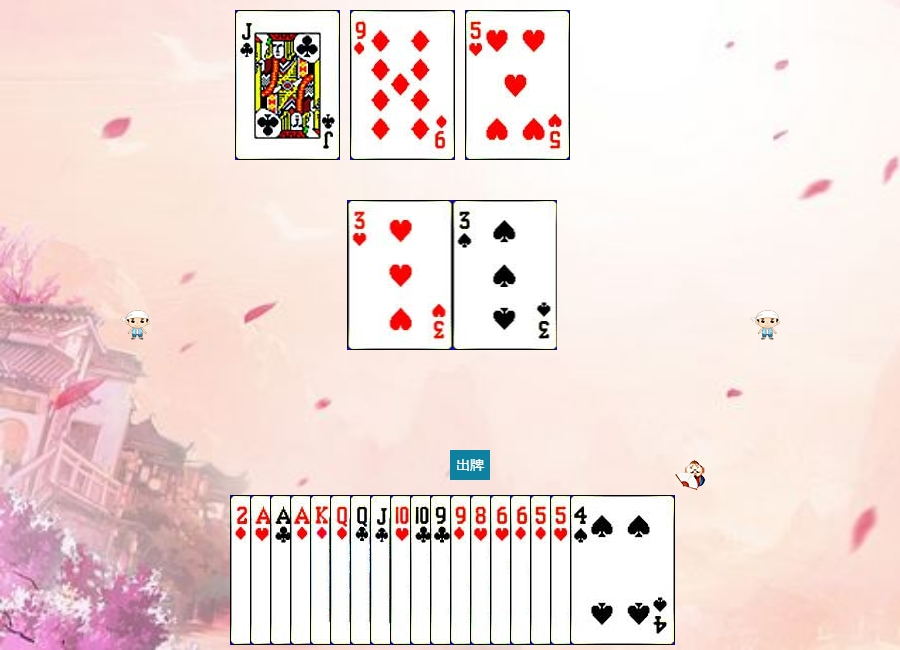10~2: (410, 495, 515, 645)
10~3: (390, 495, 495, 645)
11~2: (235, 10, 340, 160), (370, 495, 475, 645)
12~1: (330, 495, 435, 645)
12~2: (350, 495, 455, 645)
13~1: (310, 495, 415, 645)
14~1: (290, 495, 395, 645)
14~2: (270, 495, 375, 645)
14~3: (250, 495, 355, 645)
15~1: (230, 495, 335, 645)
3~3: (348, 200, 453, 350)
3~4: (453, 200, 558, 350)
4~4: (570, 495, 675, 645)
5~1: (530, 495, 635, 645)
5~3: (465, 10, 570, 160), (550, 495, 655, 645)
6~1: (510, 495, 615, 645)
6~3: (490, 495, 595, 645)
8~3: (470, 495, 575, 645)
9~1: (350, 10, 455, 160), (450, 495, 555, 645)
9~2: (430, 495, 535, 645)
